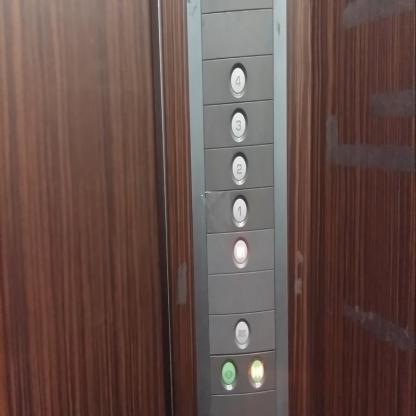1: (231, 192, 250, 228)
2: (231, 150, 249, 184)
3: (229, 107, 249, 143)
4: (229, 60, 248, 98)
B1: (232, 235, 249, 268)
close: (247, 355, 266, 388)
open: (219, 358, 238, 390)
text: (234, 318, 250, 349)
